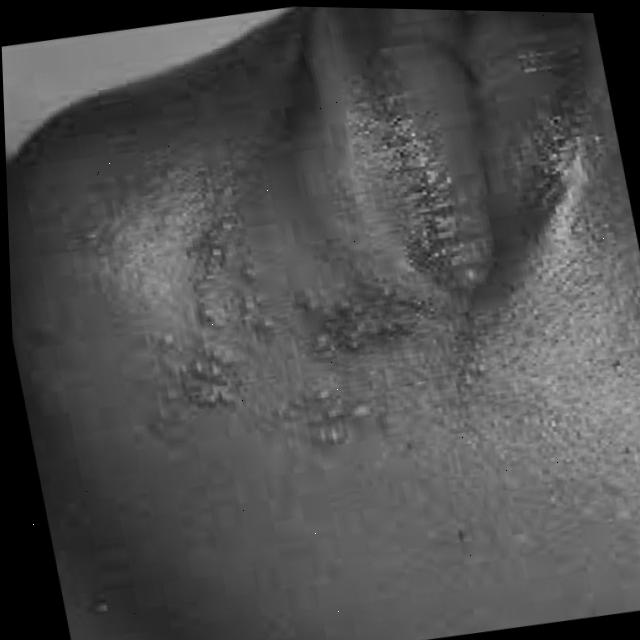Rosacea: (158, 222, 425, 486)
